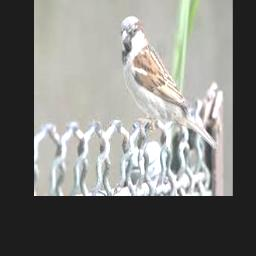Sparrow: (119, 15, 218, 153)
